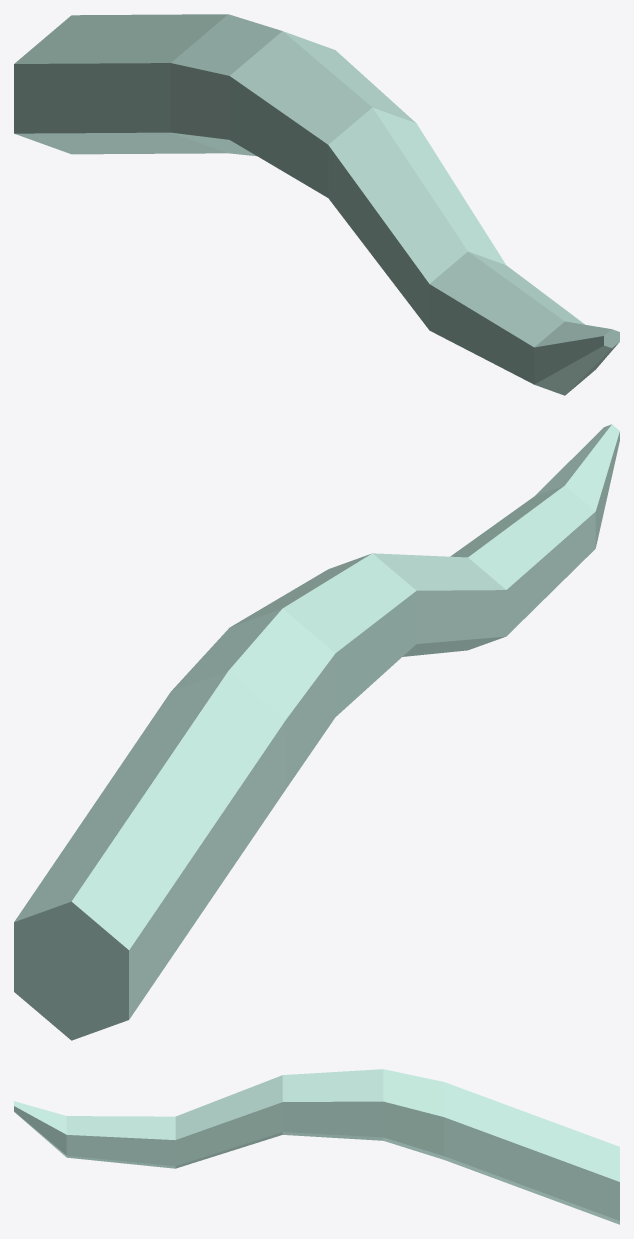
The model's file is Ice8.fbx.
3 views of the same model, one above another, from view 1: azimuth 30°, elevation 25°; view 2: azimuth 150°, elevation 25°; view 3: azimuth 270°, elevation 25° (orthographic). The views are drawn at different scales.
Visible parts, largest first — view 1: Peak; view 2: Peak; view 3: Peak.
Boxes of the visible parts, x1,y1,x2,y2 form: Peak: [14, 14, 619, 395]; Peak: [14, 424, 619, 1040]; Peak: [14, 1069, 619, 1224].
Bounding box in the file's own units: 76.12 × 175 × 619.
